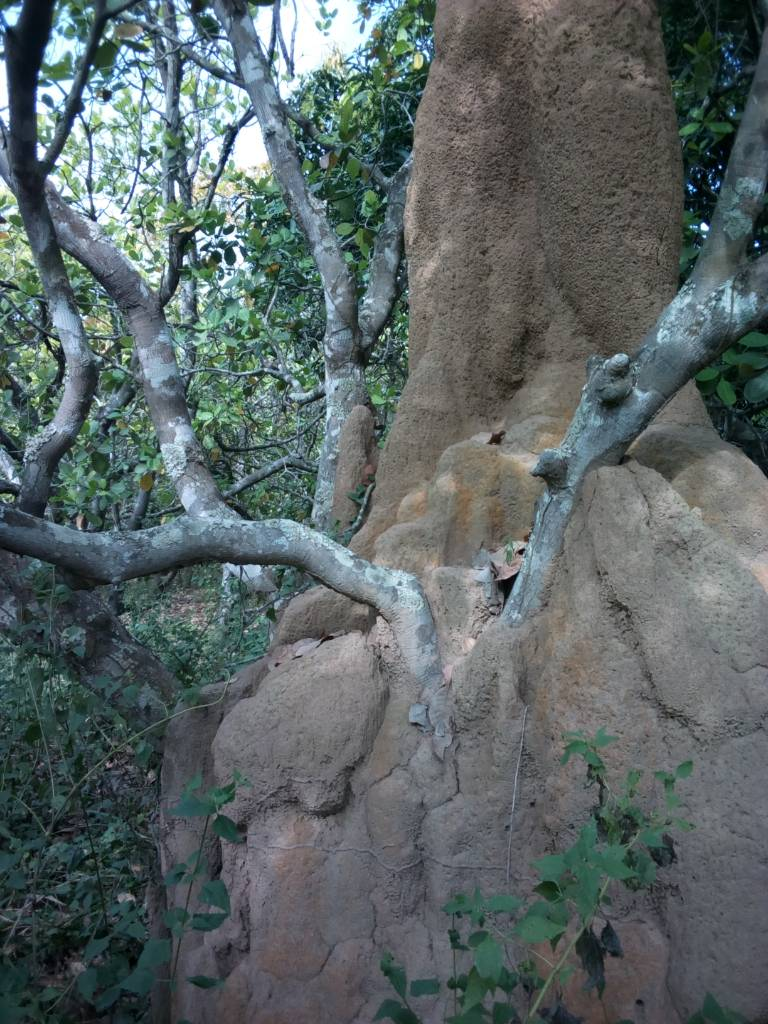Termites: (218, 649, 579, 1024), (593, 492, 768, 1024), (410, 8, 668, 332), (390, 364, 513, 617)
